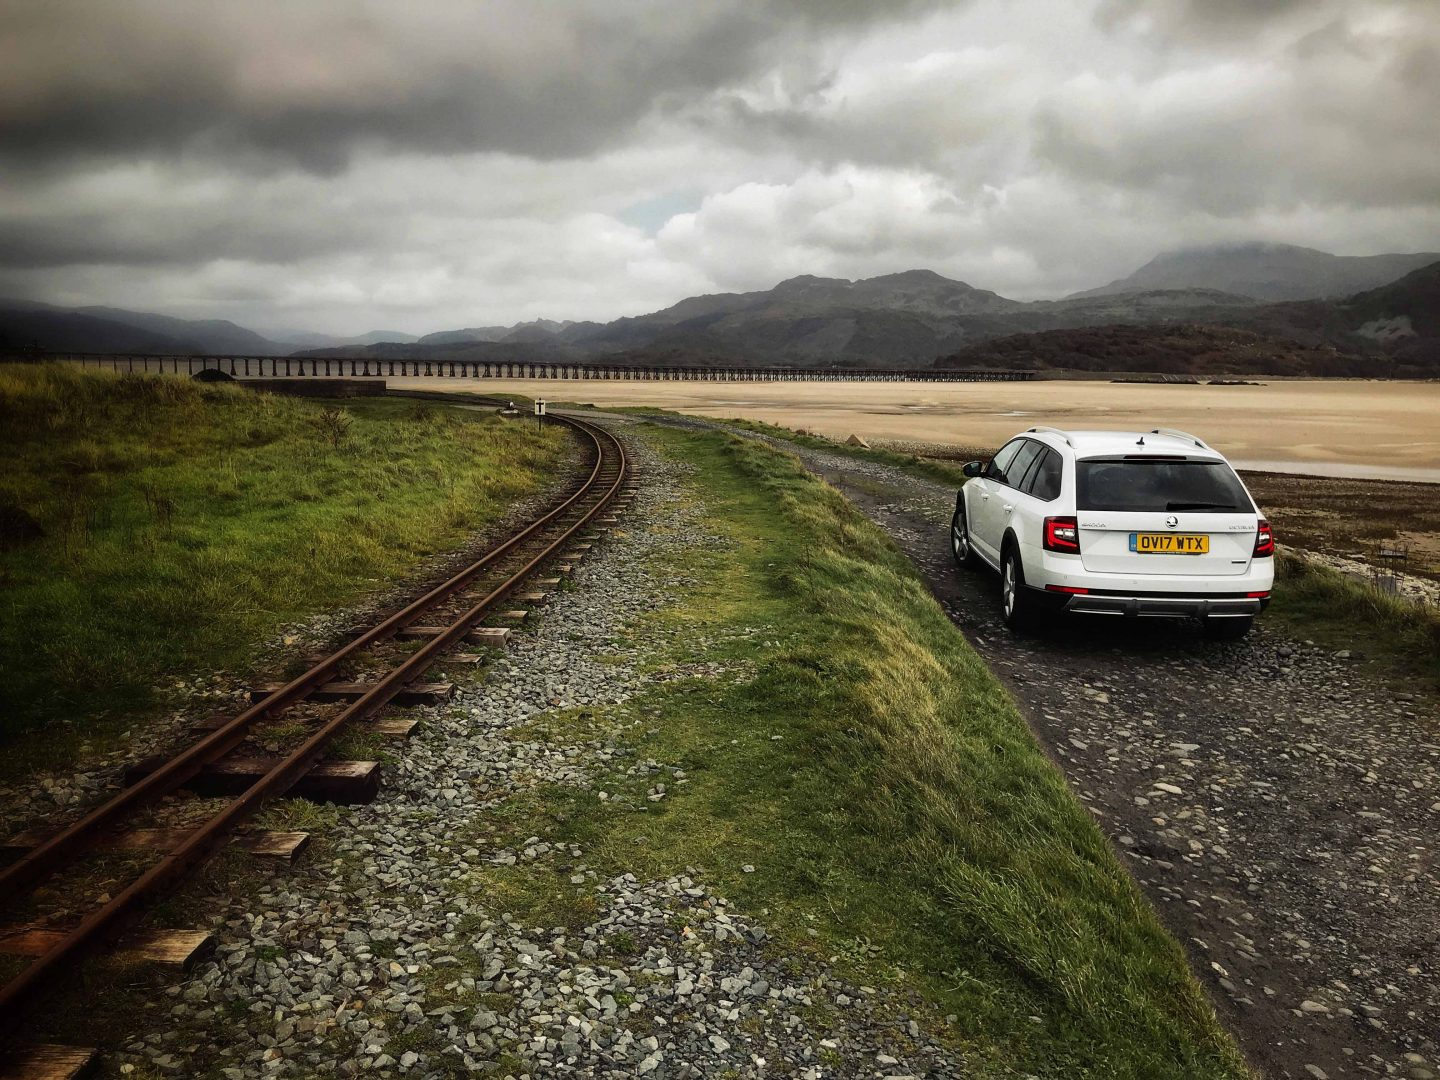license_plate: (1137, 534, 1209, 553)
